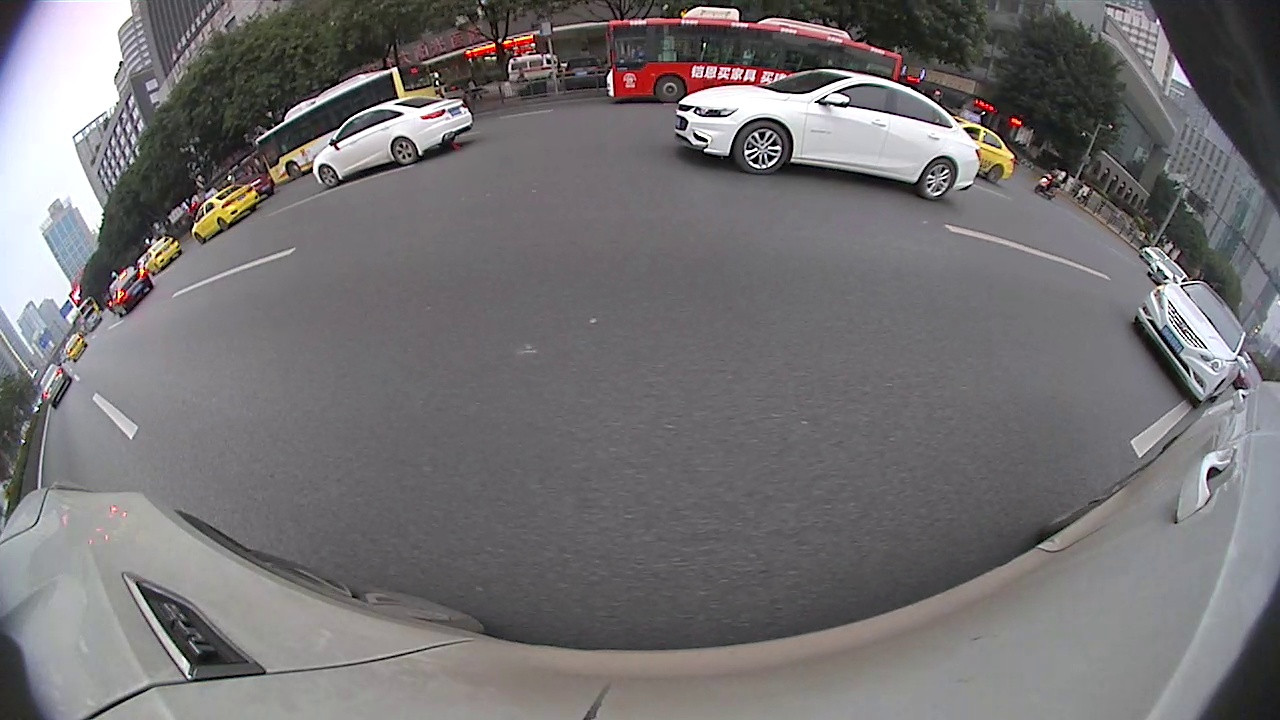bus: (605, 7, 903, 103), (254, 62, 437, 186)
car: (674, 68, 983, 203), (312, 96, 475, 187), (1133, 280, 1247, 408), (942, 115, 1016, 184), (190, 184, 262, 247), (106, 267, 155, 319), (144, 235, 184, 276), (37, 363, 72, 409), (1146, 258, 1196, 288)
front: (735, 120, 789, 174), (655, 75, 683, 101), (318, 165, 338, 184), (287, 162, 301, 179)
rear: (920, 159, 956, 201), (392, 140, 416, 163), (987, 165, 1004, 184)
rider: (1033, 167, 1069, 200)
